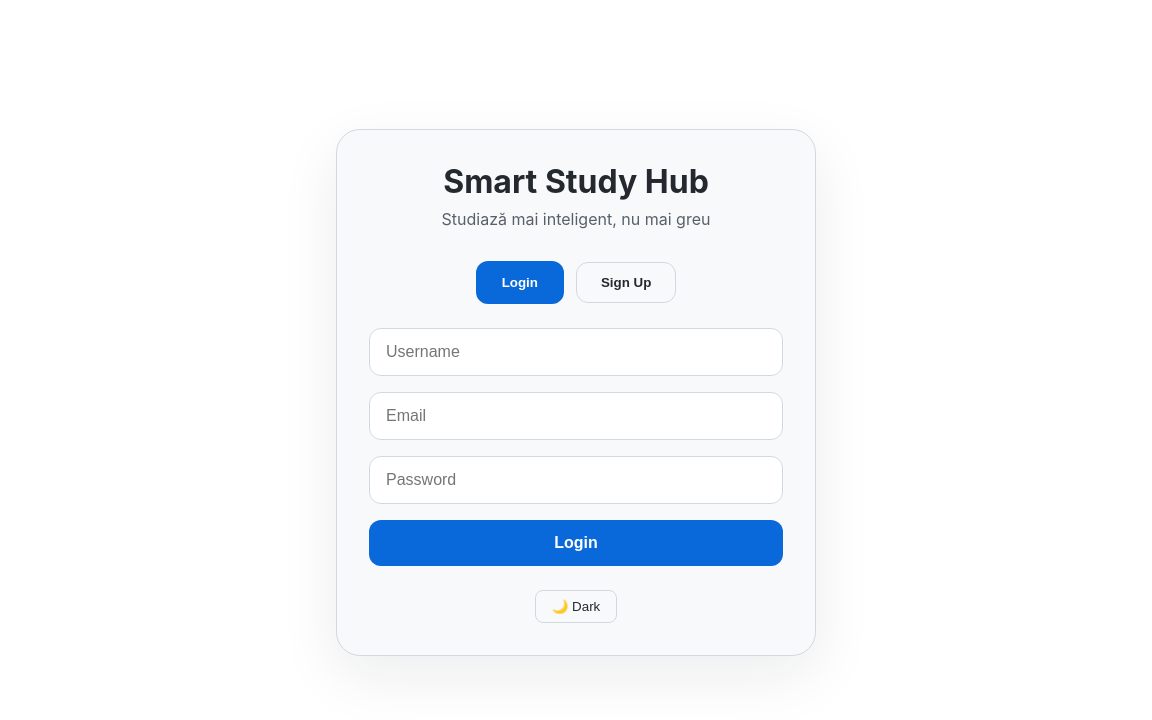
Scenario: App › toggles dark mode button label
This screenshot has width=1152, height=720.
Expected: the heading "Smart Study Hub" is shown, x1=443 y1=162 x2=709 y2=200
Click the button "🌙 Dark" at (576, 606), box x1=535 y1=590 x2=617 y2=622
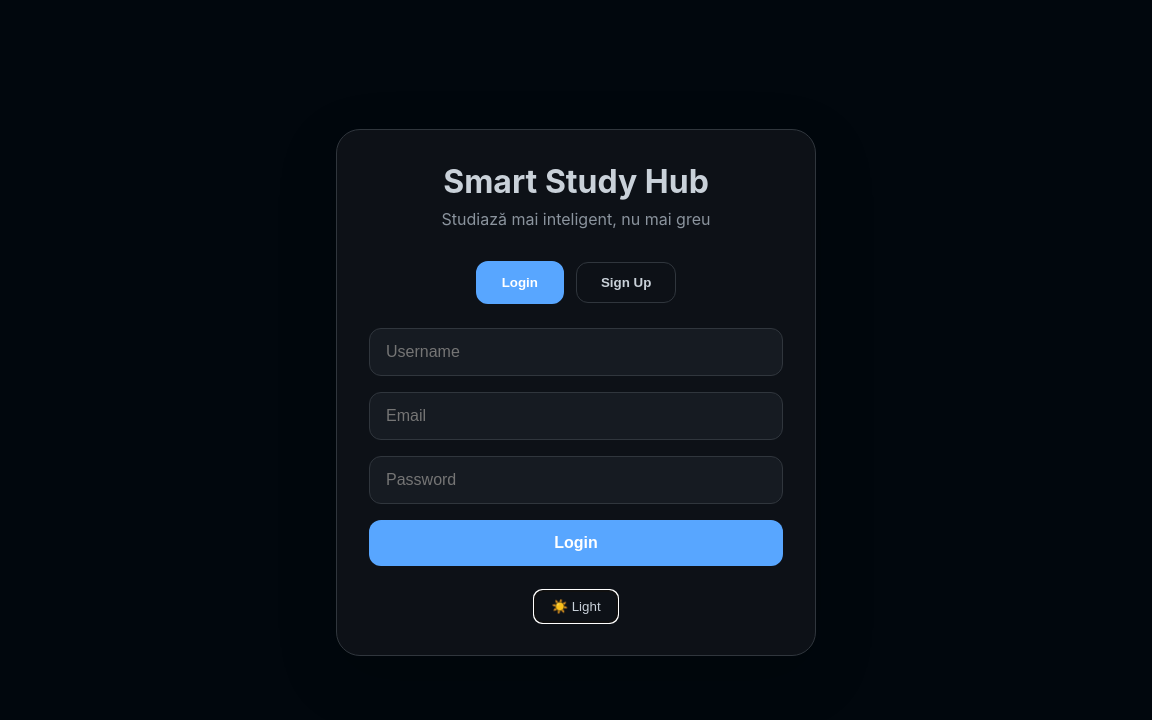
Now the button "☀️ Light" is shown, box x1=534 y1=590 x2=618 y2=622
